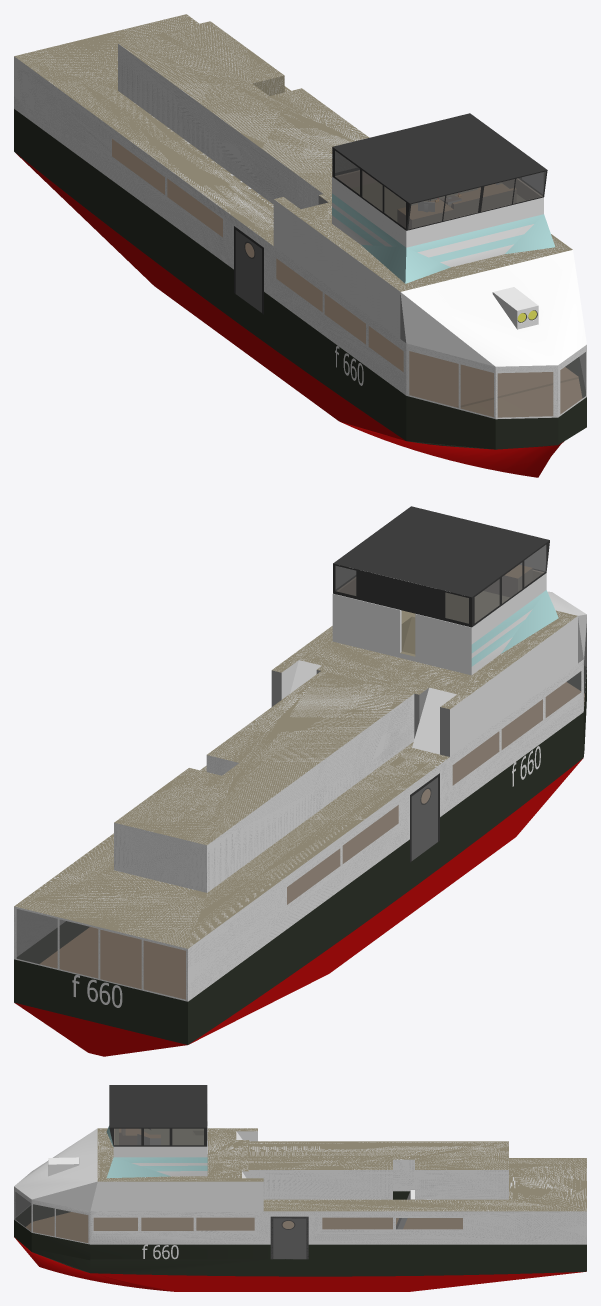
File: ferri+#2.dae
3 renders of one model, top to bottom at view 1: azimuth 30°, elevation 25°; view 2: azimuth 150°, elevation 25°; view 3: azimuth 270°, elevation 25°, orthographic. The views are drawn at different scales.
Visible parts, largest first — view 1: SketchUp (×35); view 2: SketchUp (×27); view 3: SketchUp (×28).
Boxes of the visible parts, x1,y1,x2,y2 form: SketchUp (×35): [14, 14, 586, 477]; SketchUp (×27): [14, 506, 586, 1056]; SketchUp (×28): [14, 1085, 586, 1291].
Bounding box in the file's own units: 228 × 1033 × 317.
